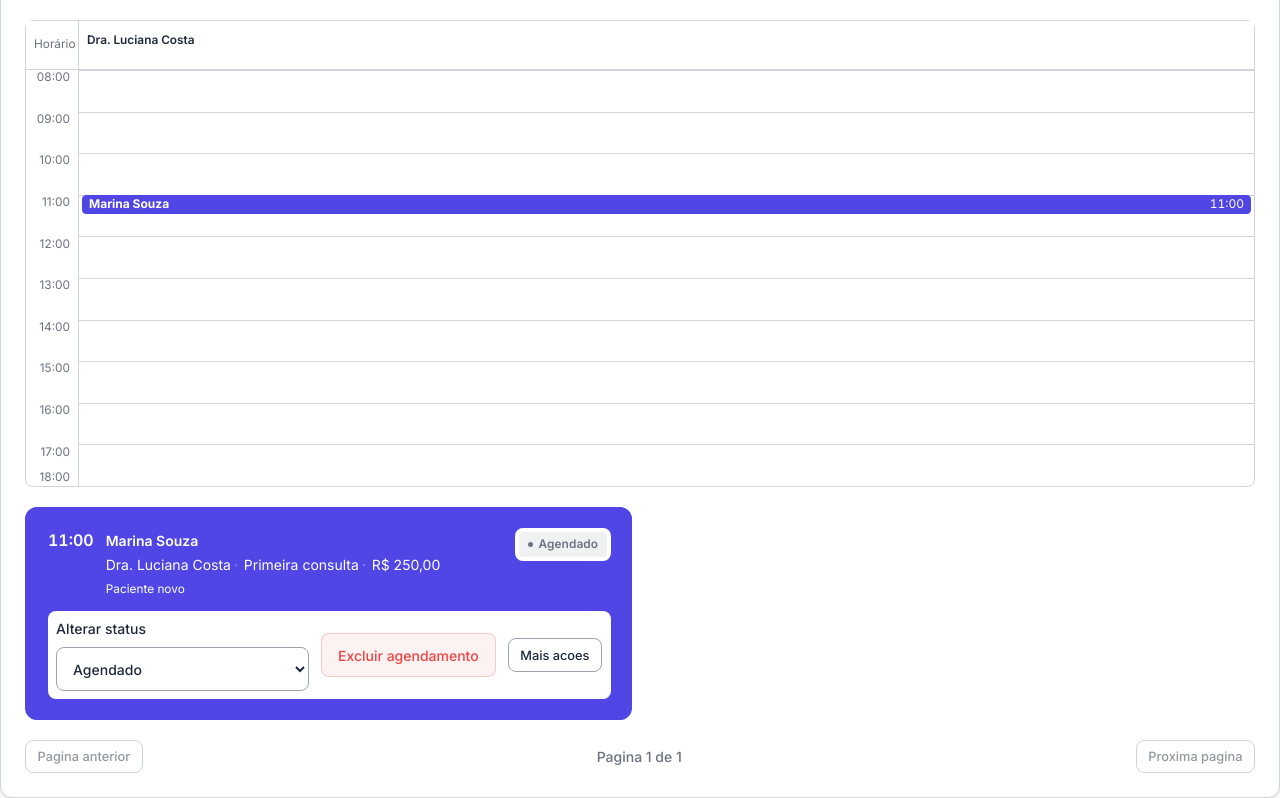
it: AppointmentBoard › confirms a scheduled appointment from the operational board
The image size is (1280, 798).
(page scrolled)
Step 1. Select "Confirmado" in the dropdown named "Alterar status de Marina Souza" → [182, 669], box 56,647 -> 309,691
(page scrolled)
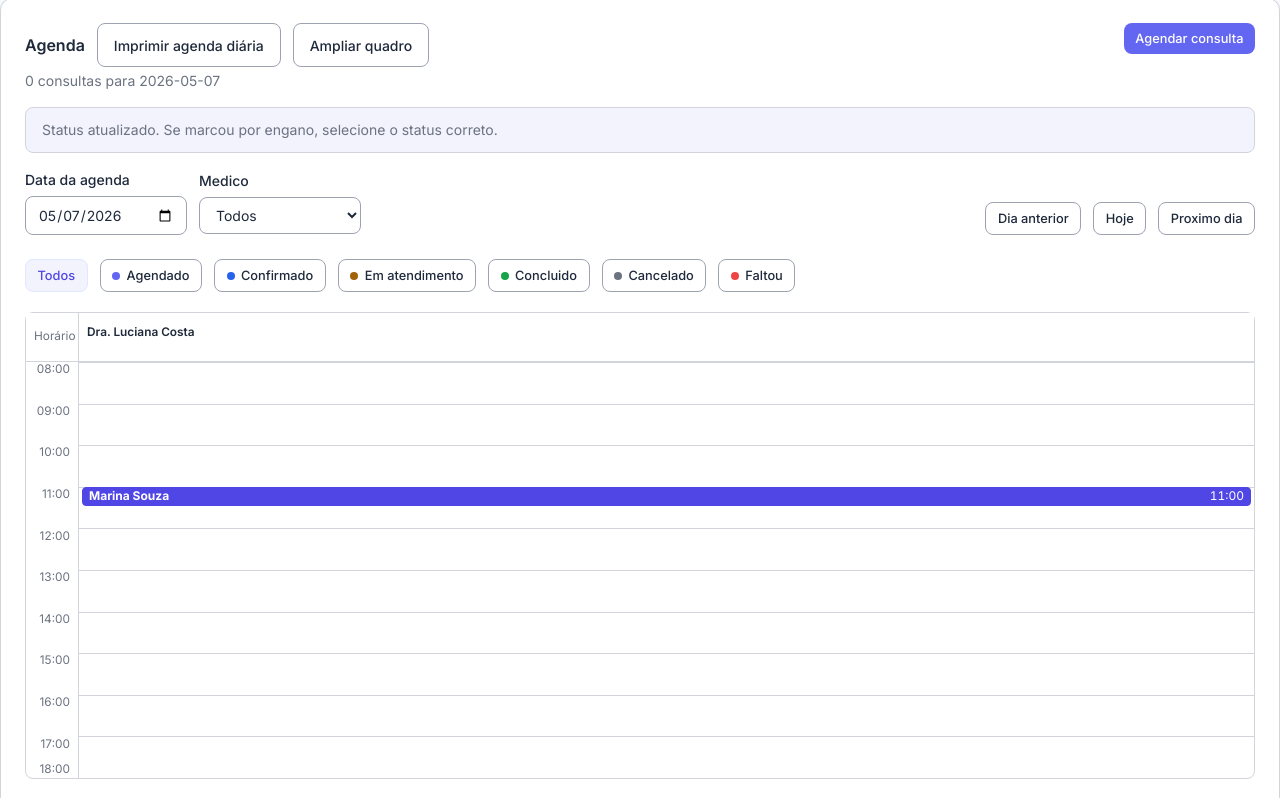
Expected: the text "Status atualizado. Se marcou por engano, selecione o status correto." is shown, 25,107 -> 1255,153
